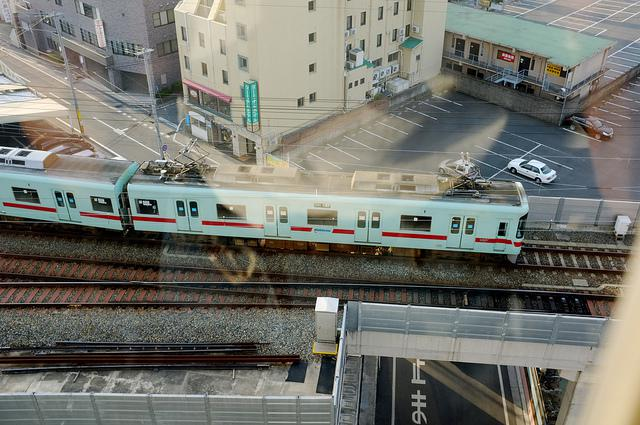Train: (1, 146, 532, 267)
